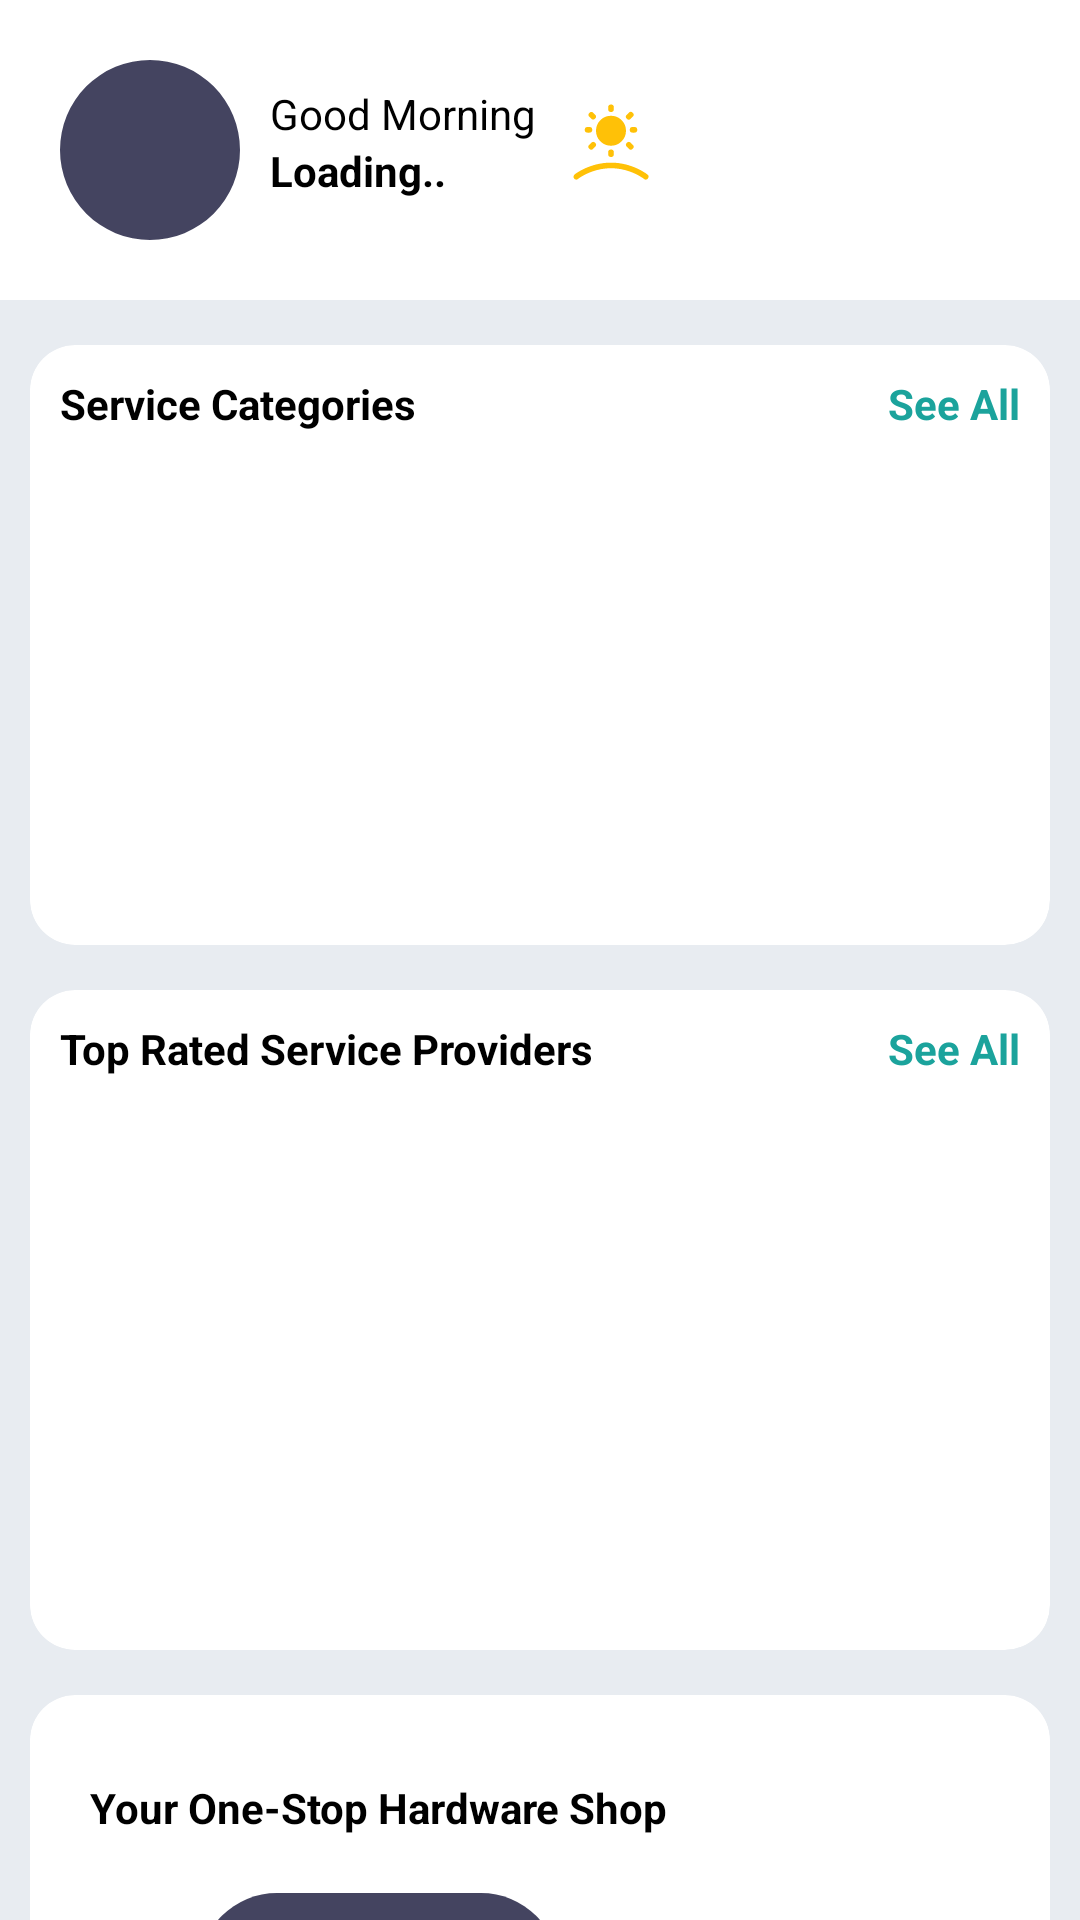

Where to tap for icons on this 1080px×1920px app screen, as (x=x, y=y):
fluent weather sunny high: (x=611, y=142)
